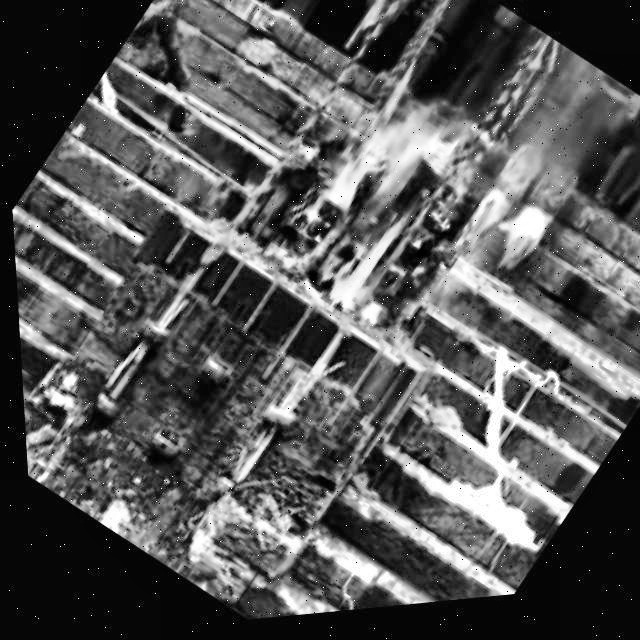Fire: (257, 74, 503, 342)
